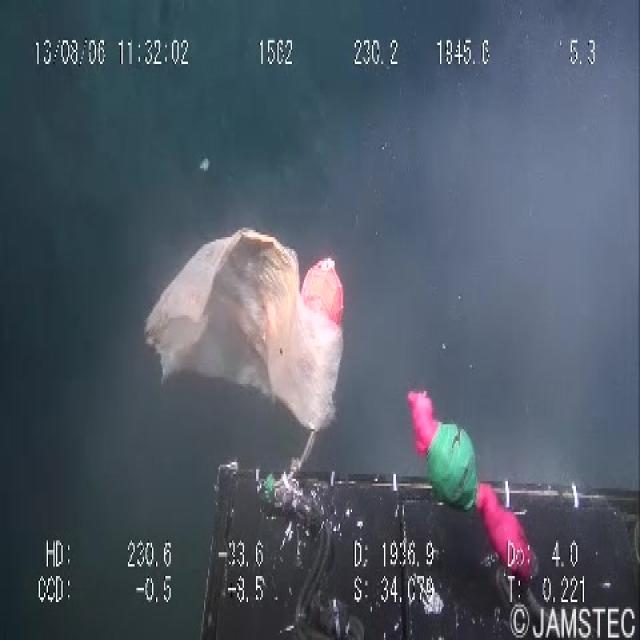plastic: (141, 216, 364, 450)
